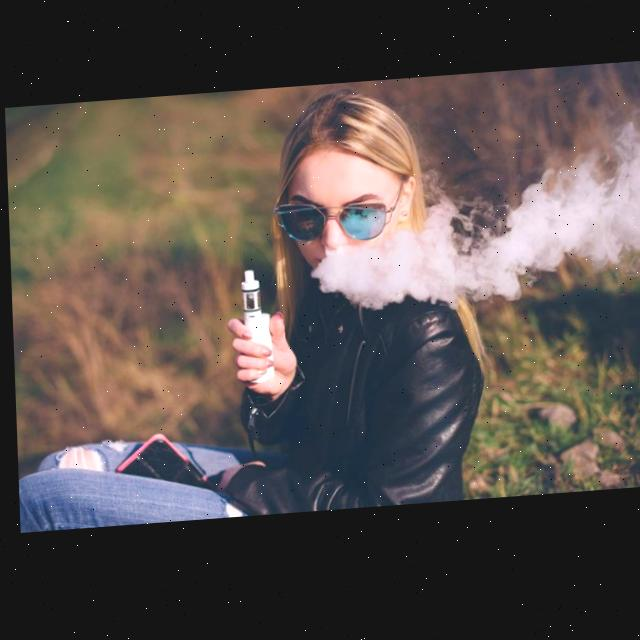vape: (237, 272, 269, 386)
